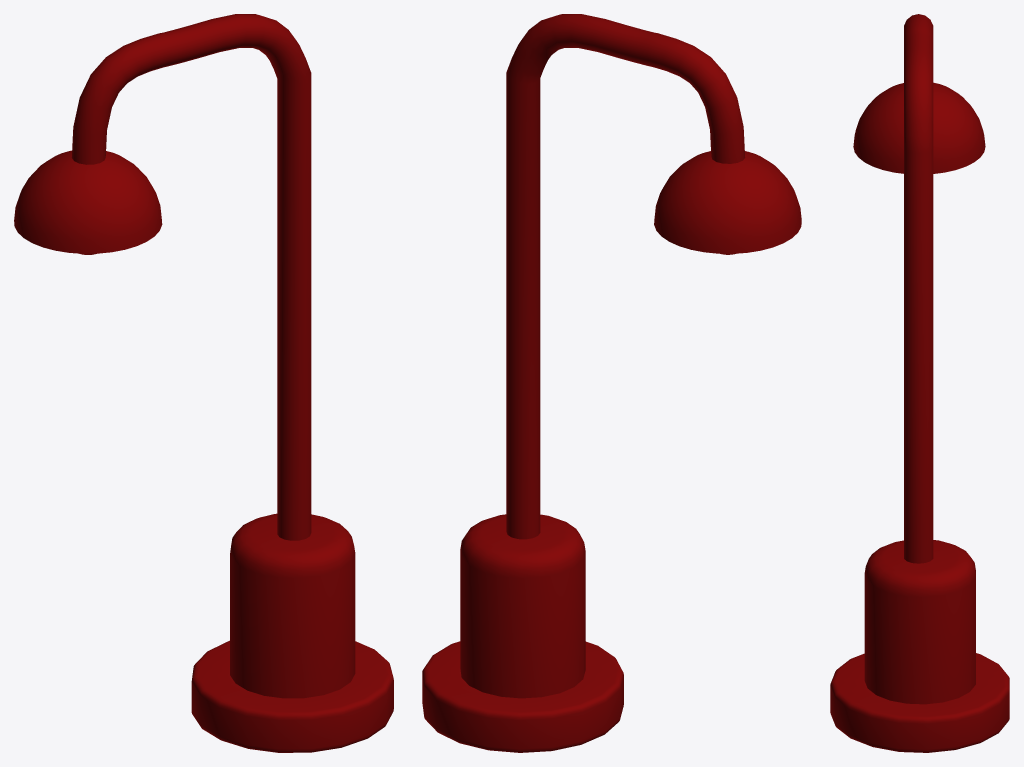
The model's file is MEZA_Lightv2.fbx.
3 views of the same model, side by side, from view 1: azimuth 30°, elevation 25°; view 2: azimuth 150°, elevation 25°; view 3: azimuth 270°, elevation 25° (orthographic). The views are drawn at different scales.
Parts seen in each view (by area): view 1: Cylinder001; view 2: Cylinder001; view 3: Cylinder001.
Part boxes in pixels (bbox=[...]): Cylinder001: bbox=[14, 14, 393, 752]; Cylinder001: bbox=[422, 14, 801, 752]; Cylinder001: bbox=[830, 14, 1009, 752].
Size of the model in its own units: 1.21 by 2.31 by 0.5927.
